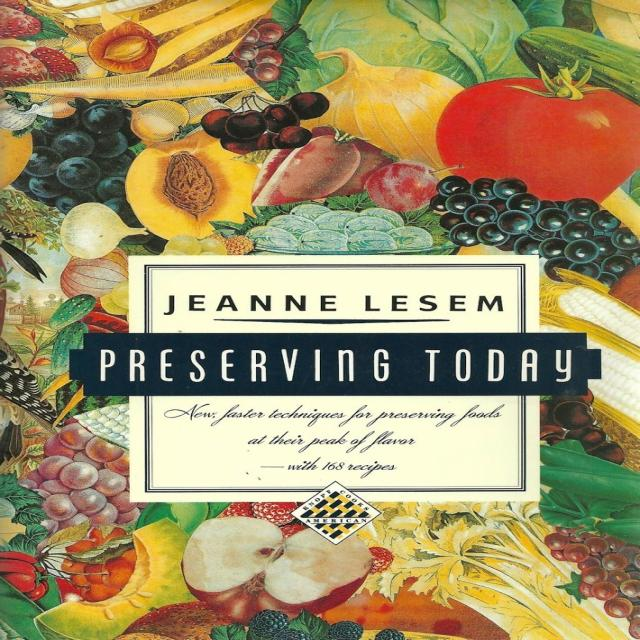Healty Apple: (440, 67, 628, 186), (182, 519, 373, 626)
